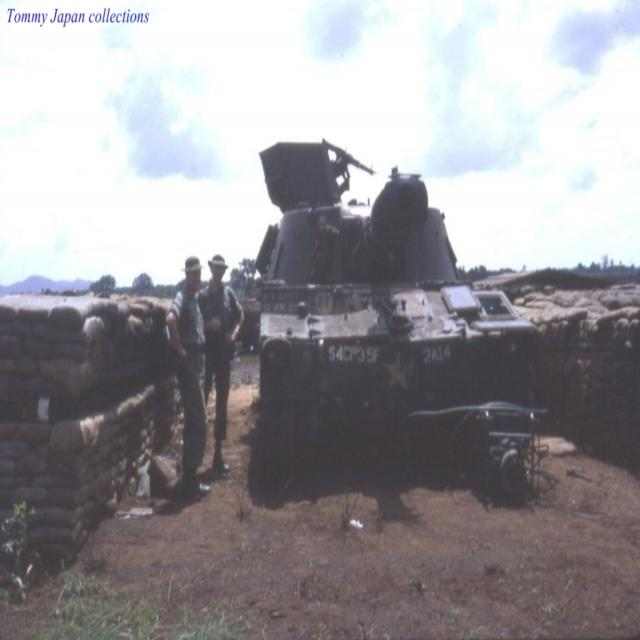tank: (252, 142, 540, 492)
